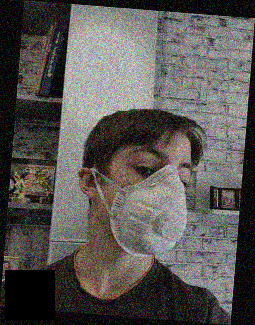with_mask: (101, 144, 191, 259)
